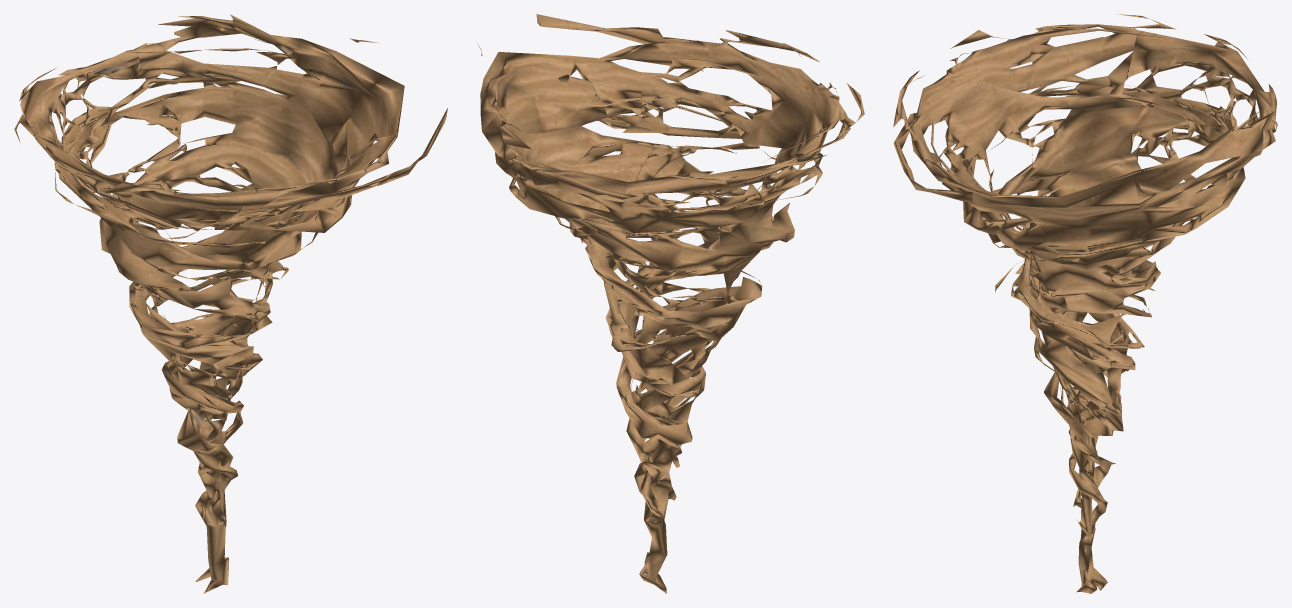
File: hurricane.glb
3 views of the same model, side by side, from view 1: azimuth 30°, elevation 25°; view 2: azimuth 150°, elevation 25°; view 3: azimuth 270°, elevation 25° (orthographic). The views are drawn at different scales.
Bounding box in the file's own units: 1.4 × 1.9 × 1.28.
Materials: 1 (1 with a texture image).
